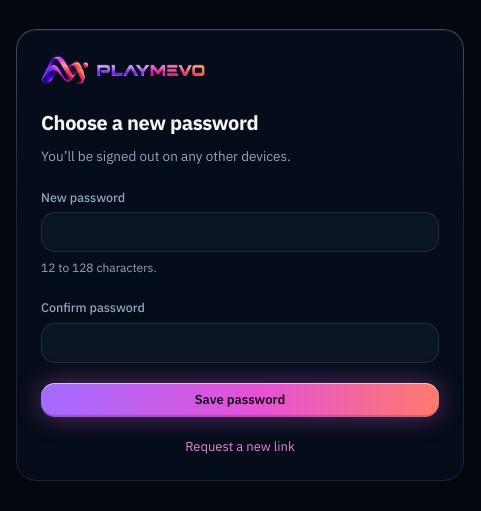
Test: the reset password page › validates the new password before sending it
Type "long-enough-password" into the password field labelled "New password" at coordinates (240, 232), box [41,212,439,252]
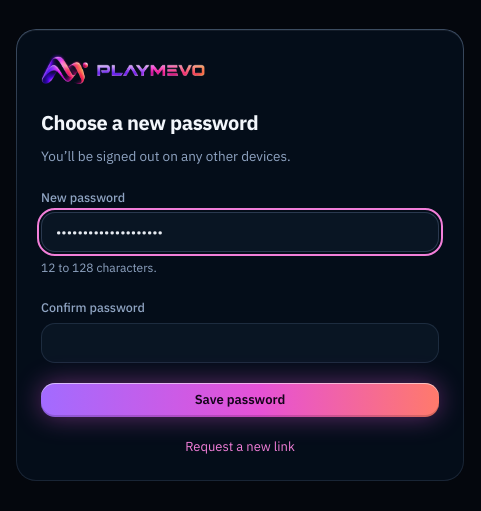
Type "different-password" into the password field labelled "Confirm password" at coordinates (240, 343), box [41,323,439,363]
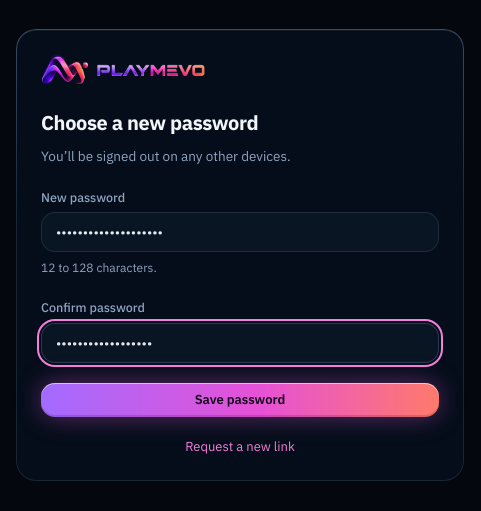
Click the button "Save password" at coordinates (240, 400), box [41,383,439,417]
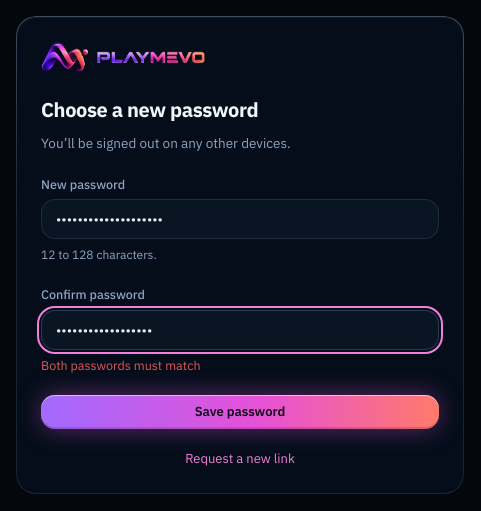
Result: the message reads "Both passwords must match" at [41,357,200,373]
